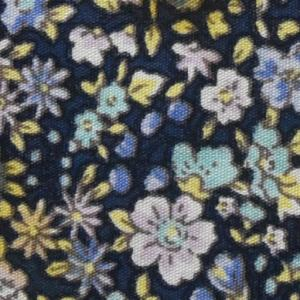Stain: (113, 1, 249, 49), (1, 148, 32, 271)
